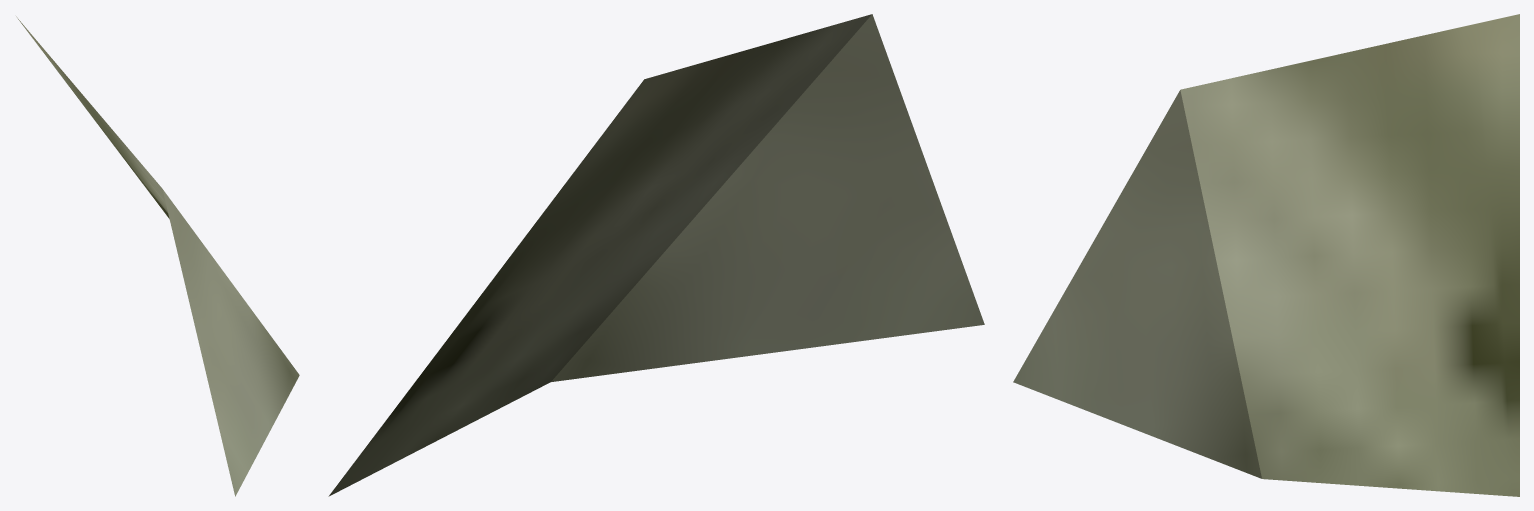
3 renders of one model, left to right at view 1: azimuth 30°, elevation 25°; view 2: azimuth 150°, elevation 25°; view 3: azimuth 270°, elevation 25°, orthographic. The views are drawn at different scales.
Size of the model in its own units: 0.0788 by 0.1179 by 0.1471.
Materials: 1 (1 with a texture image).
